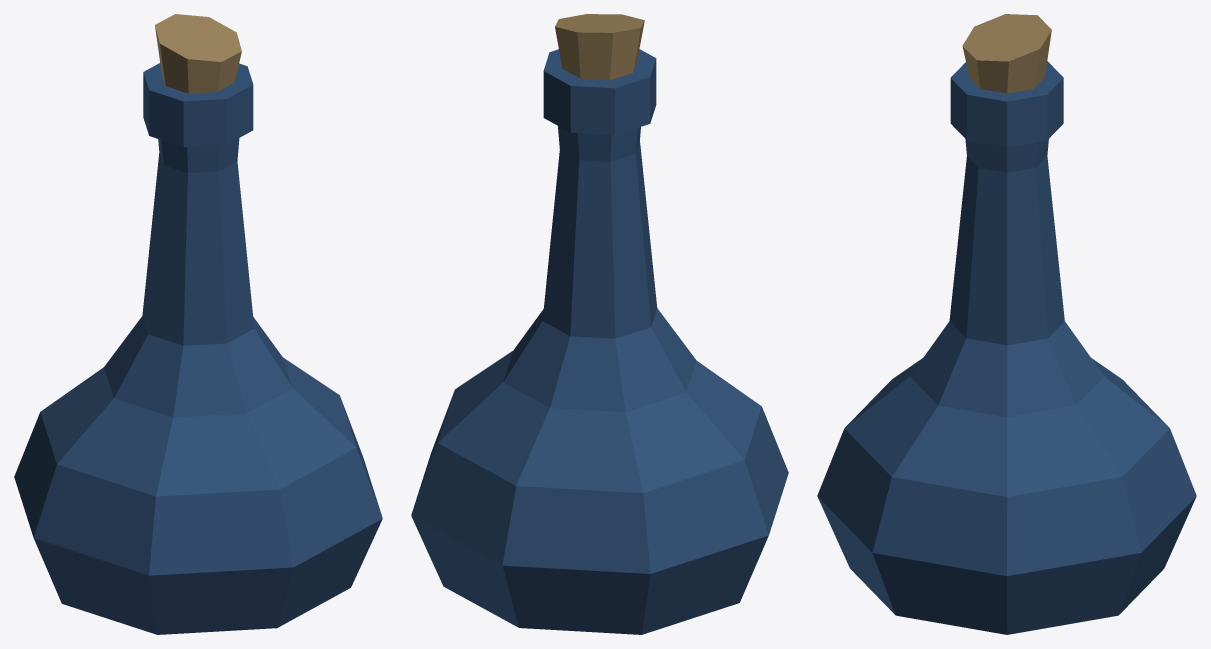
The model's file is Bottiglia3.fbx.
3 views of the same model, side by side, from view 1: azimuth 30°, elevation 25°; view 2: azimuth 150°, elevation 25°; view 3: azimuth 270°, elevation 25° (orthographic). The views are drawn at different scales.
Parts seen in each view (by area): view 1: SM_Item_Bottle_06; view 2: SM_Item_Bottle_06; view 3: SM_Item_Bottle_06.
Part boxes in pixels (left/top/right/bottom): SM_Item_Bottle_06: left=14, top=14, right=382, bottom=634; SM_Item_Bottle_06: left=411, top=14, right=788, bottom=634; SM_Item_Bottle_06: left=817, top=14, right=1196, bottom=634.
Size of the model in its own units: 16.64 by 26.1 by 16.64.
Materials: 1 (1 with a texture image).
